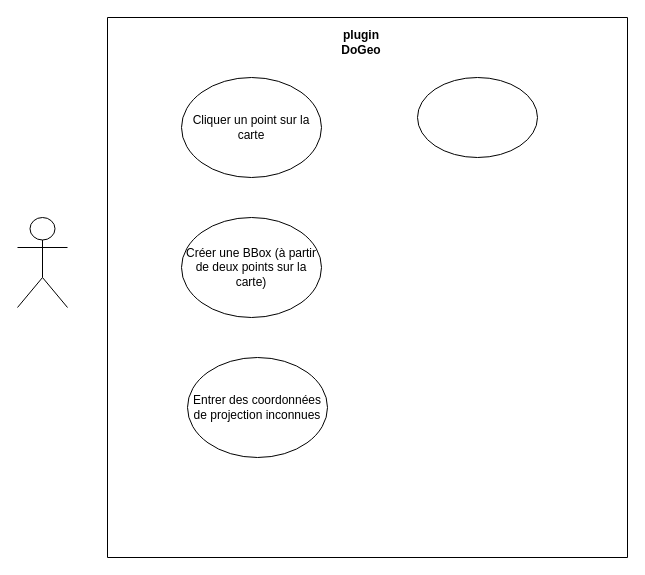
Some shapes in this 645 by 575 pixel diagram are drawn without their labels. The shapes that lost their labels are listed below. From the top down, each one's centre as x and y in pixels, then its label:
point (477, 117): Sélectionner une projection
point (42, 262): Actor
